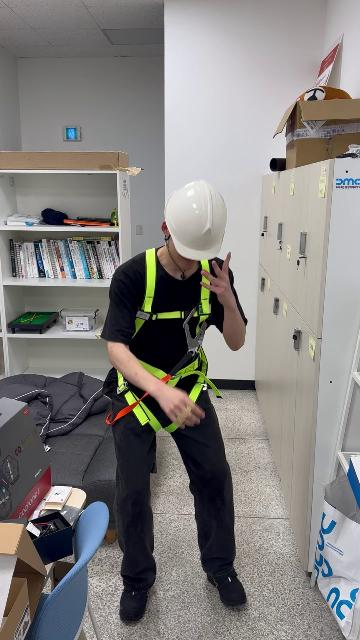helmet_worn: (163, 179, 227, 259)
shoe_worn: (206, 569, 246, 607), (119, 582, 153, 622)
vest_worn: (112, 255, 221, 425)
